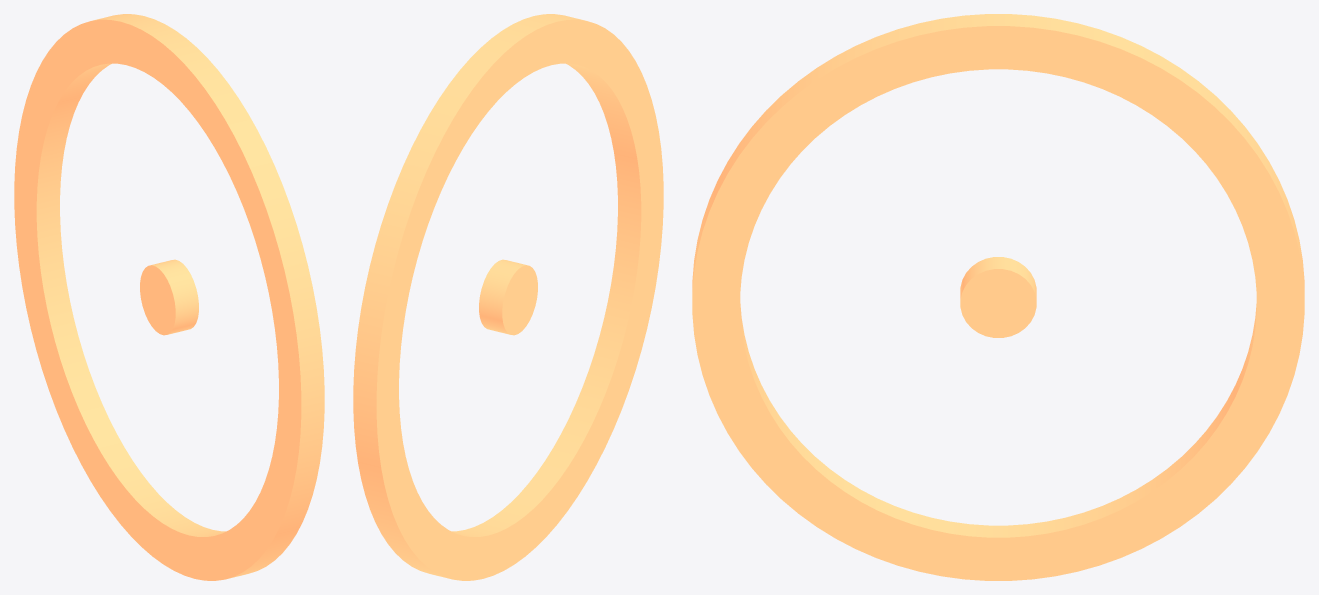
The model's file is SM_Holo_Reticle.fbx.
The picture shows the model from 3 angles, left to right: view 1: azimuth 30°, elevation 25°; view 2: azimuth 150°, elevation 25°; view 3: azimuth 270°, elevation 25°; orthographic projection. The views are drawn at different scales.
Visible parts, largest first — view 1: SM_Holo_Reticle; view 2: SM_Holo_Reticle; view 3: SM_Holo_Reticle.
Boxes of the visible parts, x1=… form: SM_Holo_Reticle: x1=14, y1=14, x2=324, y2=580; SM_Holo_Reticle: x1=353, y1=14, x2=663, y2=580; SM_Holo_Reticle: x1=692, y1=14, x2=1304, y2=580.
Bounding box in the file's own units: 0.0121 × 0.000566 × 0.0121.
